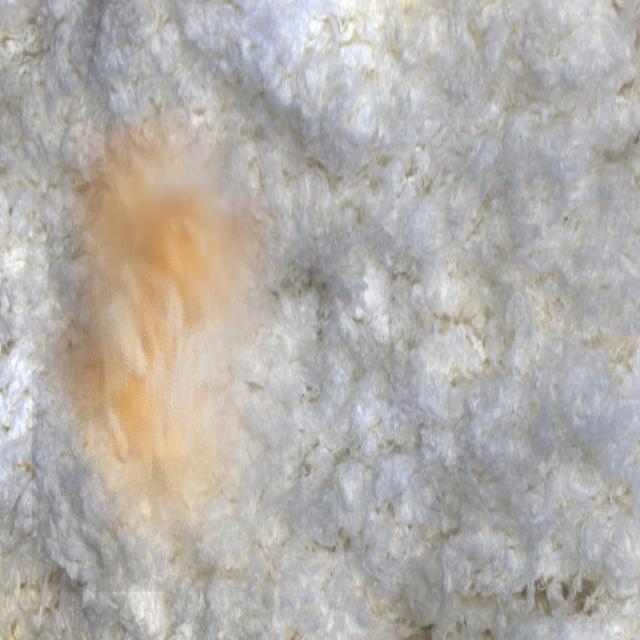dust: (32, 104, 298, 592)
